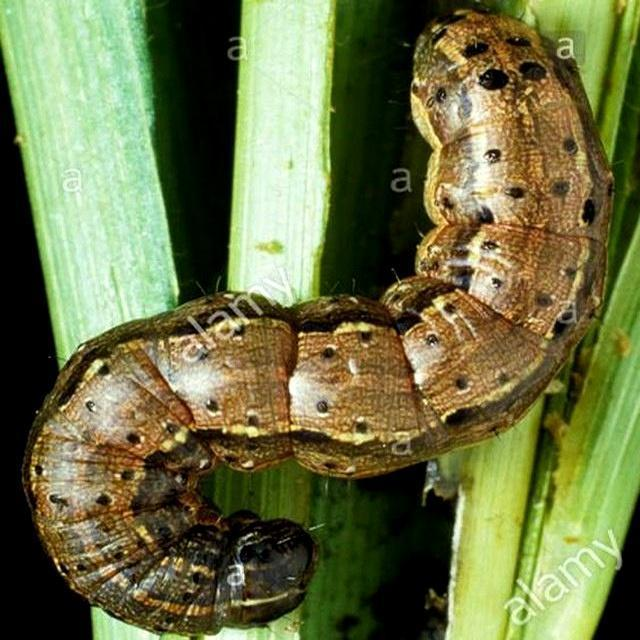gusano_cogollero: (18, 0, 618, 637)
